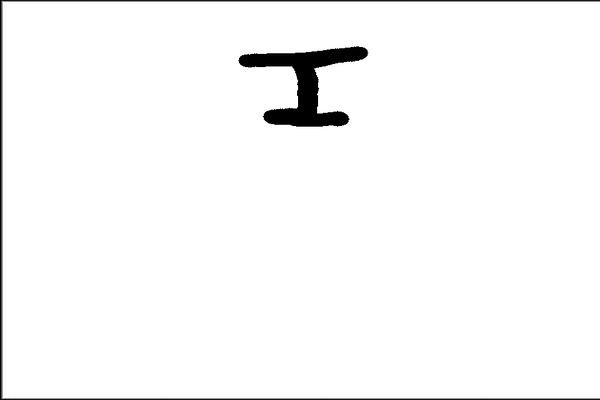i: (230, 41, 373, 127)
